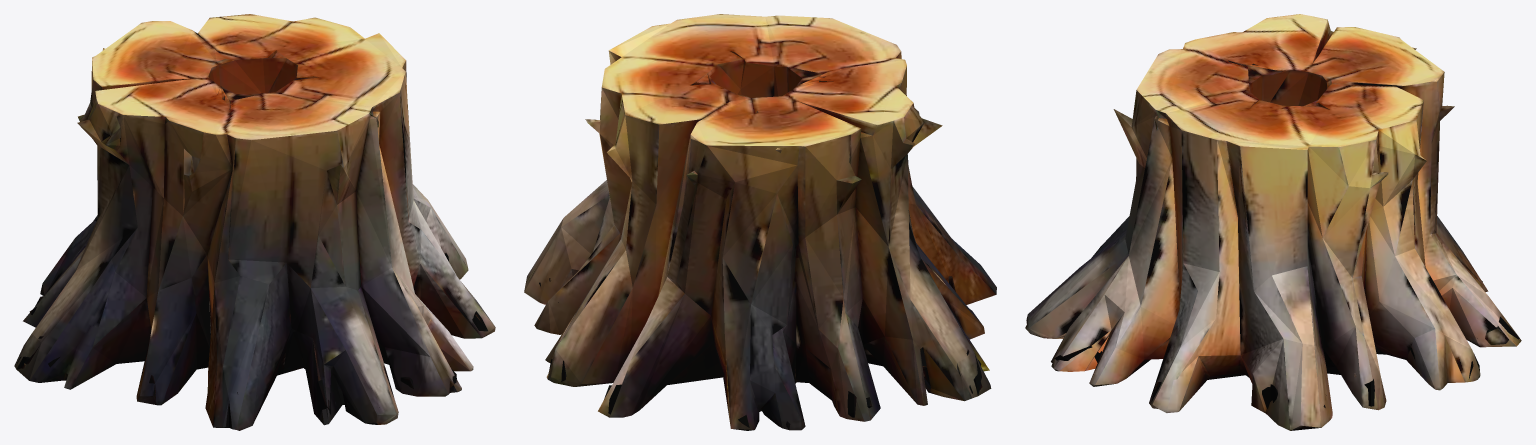
The model's file is prop_tree_stump_02.glb.
The picture shows the model from 3 angles, left to right: view 1: azimuth 30°, elevation 25°; view 2: azimuth 150°, elevation 25°; view 3: azimuth 270°, elevation 25°; orthographic projection. The views are drawn at different scales.
Parts seen in each view (by area): view 1: geometry_0; view 2: geometry_0; view 3: geometry_0.
Part boxes in pixels (left/top/right/bottom): geometry_0: left=14, top=14, right=495, bottom=430; geometry_0: left=524, top=14, right=996, bottom=430; geometry_0: left=1025, top=14, right=1521, bottom=430.
Bounding box in the file's own units: 0.9964 × 0.5425 × 0.9927.
Materials: 1 (1 with a texture image).
